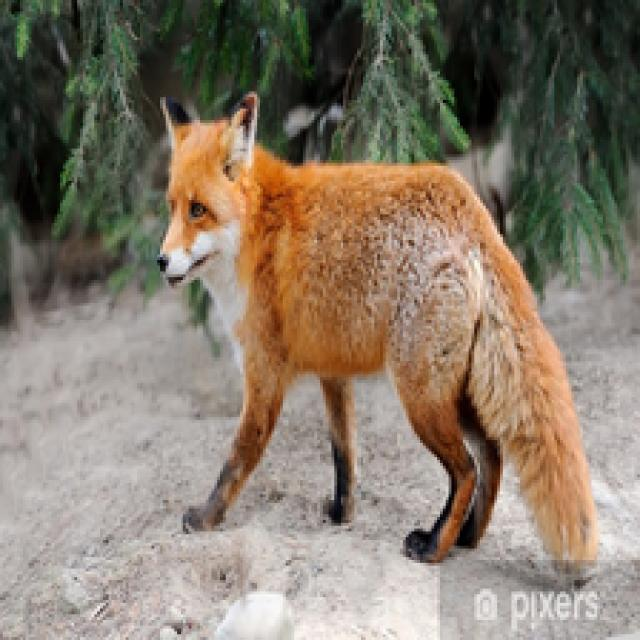fox: (152, 90, 622, 592)
